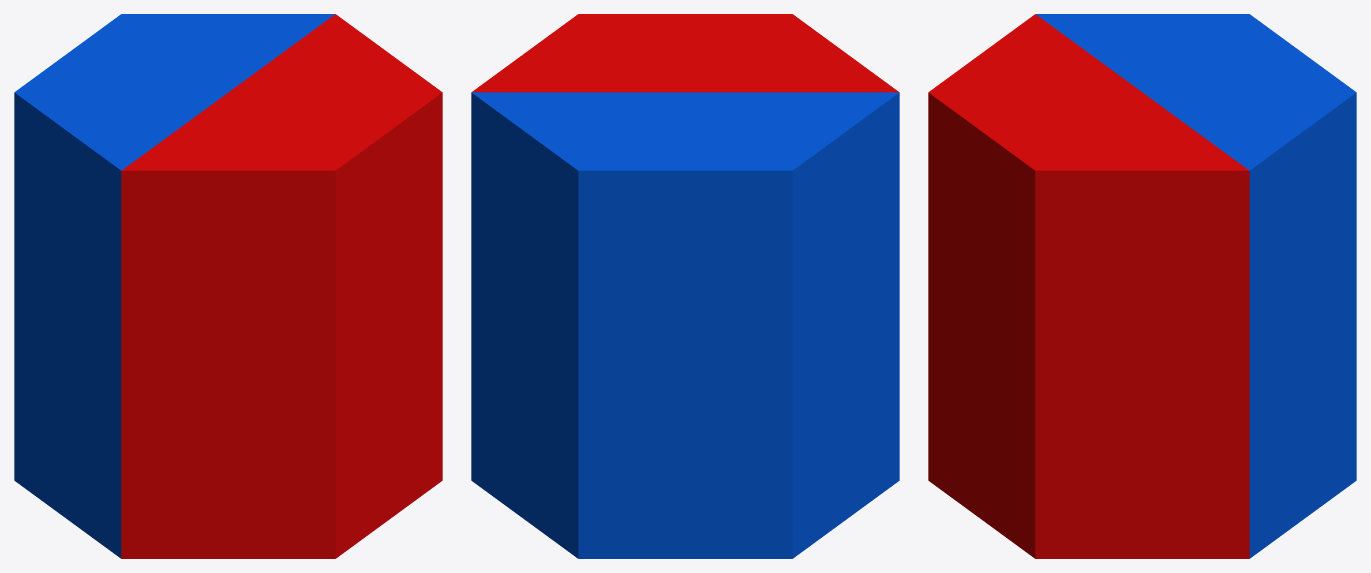
Rendered from Hexagon.fbx.
3 views of the same model, side by side, from view 1: azimuth 30°, elevation 25°; view 2: azimuth 150°, elevation 25°; view 3: azimuth 270°, elevation 25° (orthographic).
Visible parts, largest first — view 1: Cylinder; view 2: Cylinder; view 3: Cylinder.
Boxes of the visible parts, x1,y1,x2,y2 form: Cylinder: (14, 14, 442, 558); Cylinder: (471, 14, 899, 558); Cylinder: (928, 14, 1356, 558).
Size of the model in its own units: 173 by 200 by 200.
